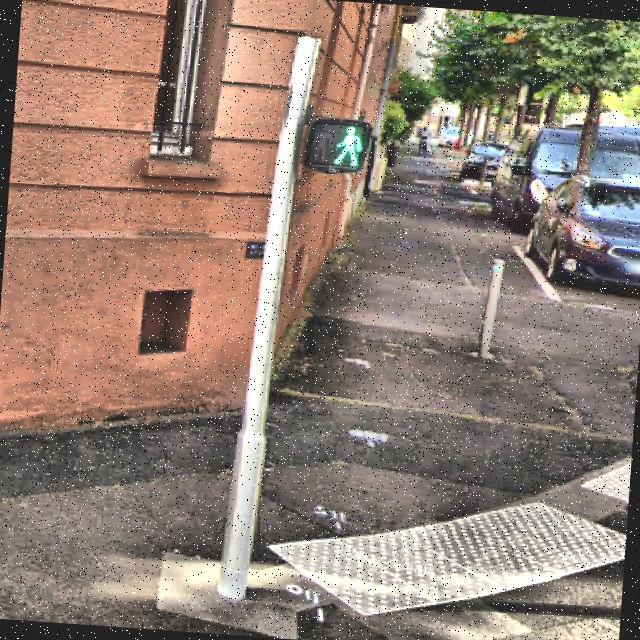green_light: (324, 120, 364, 170)
